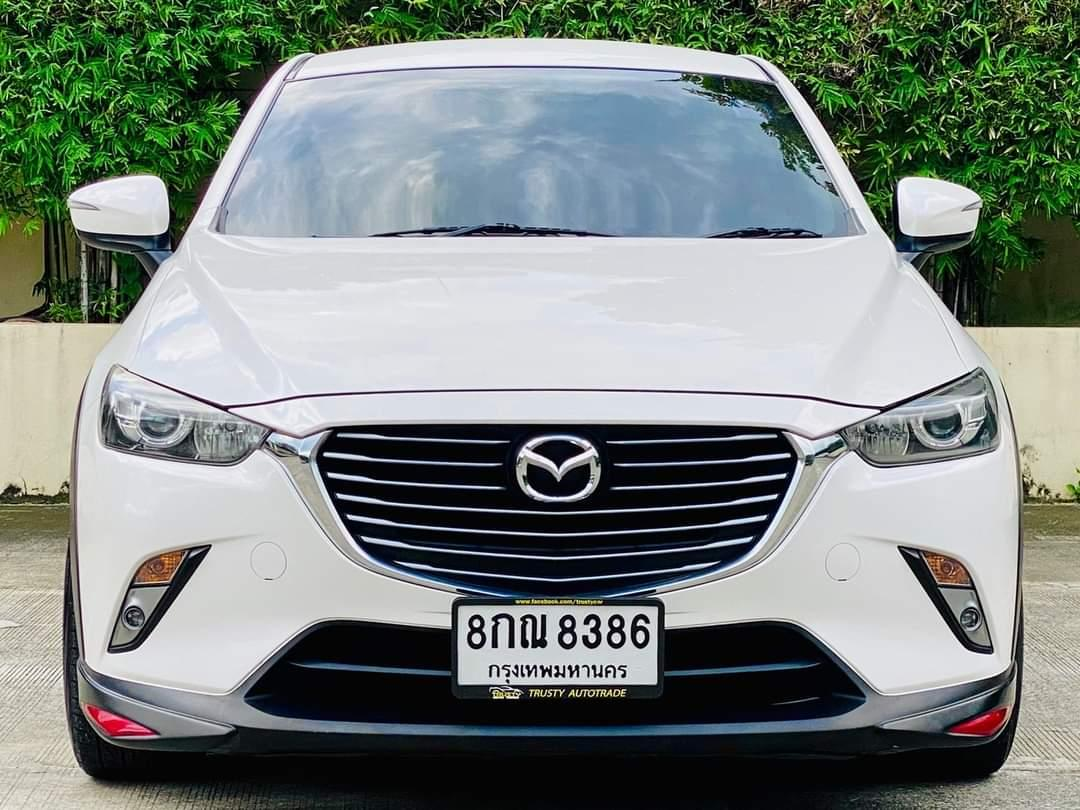license-plate: (450, 593, 667, 702)
